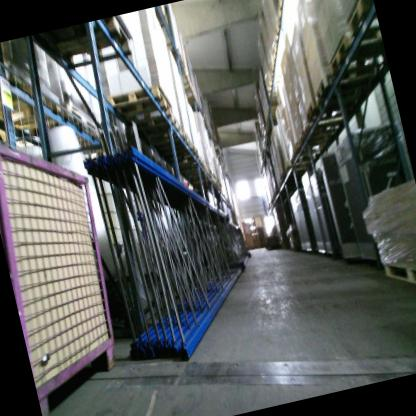pallet: (36, 17, 136, 78), (9, 102, 104, 163), (0, 64, 65, 132), (323, 27, 388, 85), (310, 62, 382, 112), (102, 80, 170, 128), (303, 91, 364, 125), (341, 0, 381, 40), (136, 114, 182, 146), (382, 257, 416, 299), (303, 112, 350, 142), (294, 126, 344, 153), (148, 130, 194, 158), (287, 138, 334, 161), (172, 156, 208, 178), (160, 145, 199, 165), (283, 154, 316, 175), (171, 49, 187, 72), (178, 71, 192, 93), (187, 93, 199, 108)
stillage: (0, 127, 145, 416)
